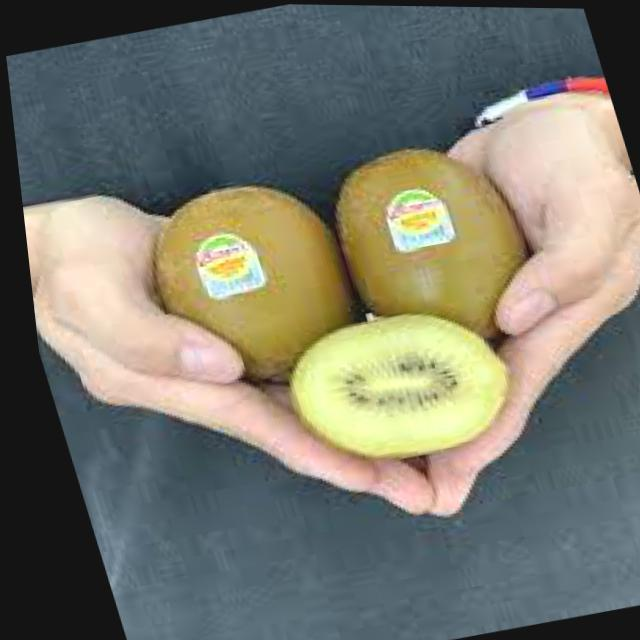kiwi: (125, 168, 373, 400), (311, 130, 554, 365)
